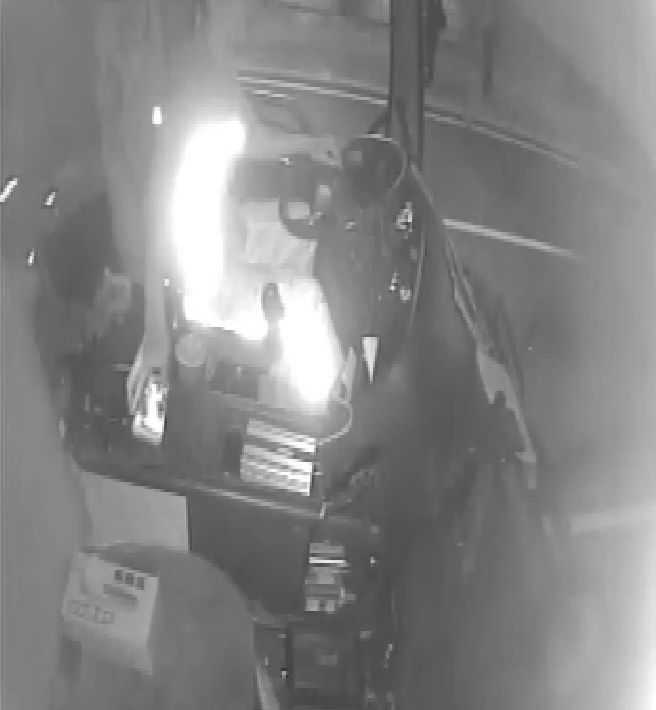cellphone: (128, 366, 169, 446)
